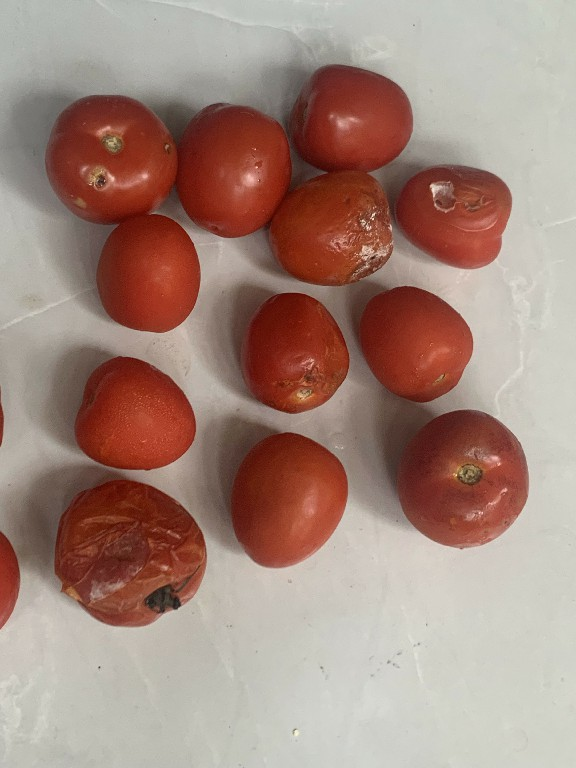NG: (49, 477, 214, 634), (398, 408, 532, 550), (46, 88, 178, 223), (269, 167, 392, 284), (242, 290, 349, 417), (392, 158, 511, 269)
OK: (225, 429, 356, 570), (178, 97, 293, 241), (68, 351, 201, 473), (358, 281, 476, 408), (289, 58, 417, 173), (95, 210, 202, 338)
